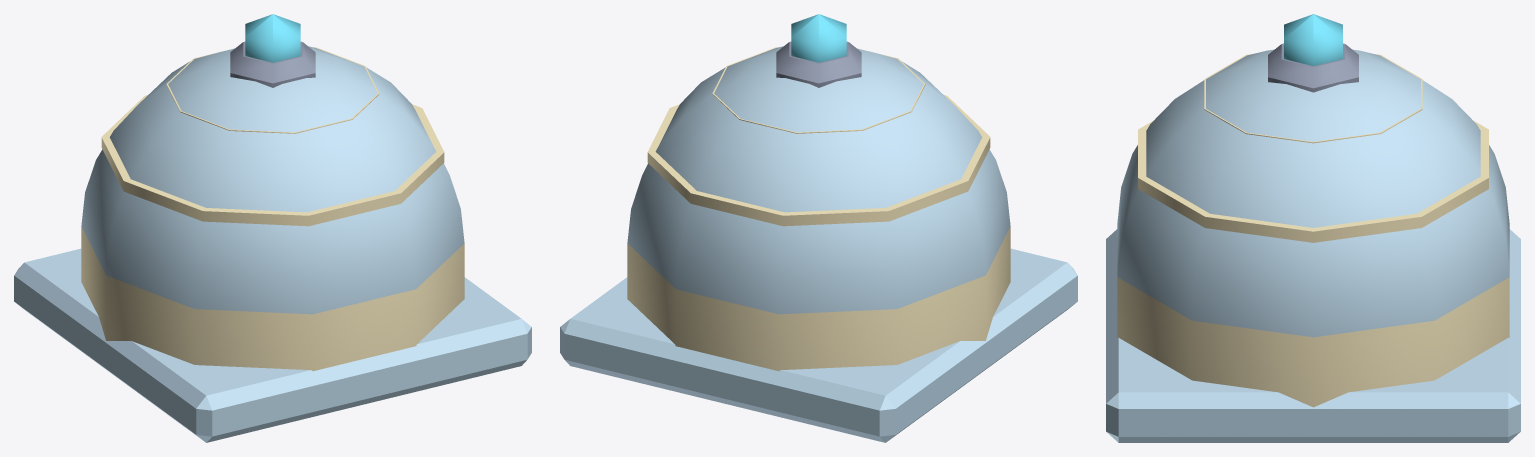
File: R4X_PersonalShield_LOD1.glb
The picture shows the model from 3 angles, left to right: view 1: azimuth 30°, elevation 25°; view 2: azimuth 150°, elevation 25°; view 3: azimuth 270°, elevation 25°; orthographic projection. The views are drawn at different scales.
Visible parts, largest first — view 1: R4X_PersonalShield_LOD1; view 2: R4X_PersonalShield_LOD1; view 3: R4X_PersonalShield_LOD1.
Boxes of the visible parts, x1=… form: R4X_PersonalShield_LOD1: x1=14, y1=14, x2=531, y2=442; R4X_PersonalShield_LOD1: x1=560, y1=14, x2=1077, y2=442; R4X_PersonalShield_LOD1: x1=1106, y1=14, x2=1520, y2=442.
Size of the model in its own units: 0.52 by 0.4795 by 0.52.
